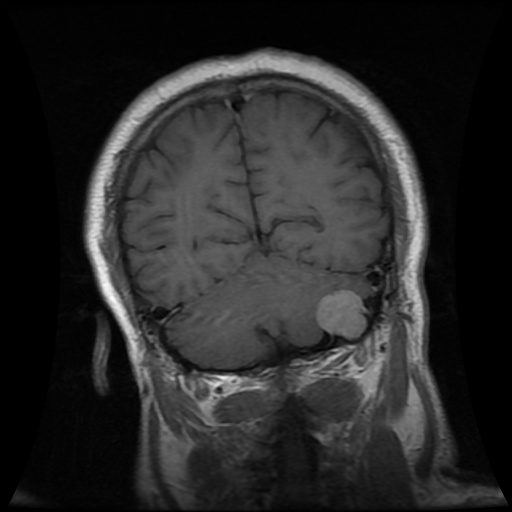meningioma: (316, 289, 368, 340)
